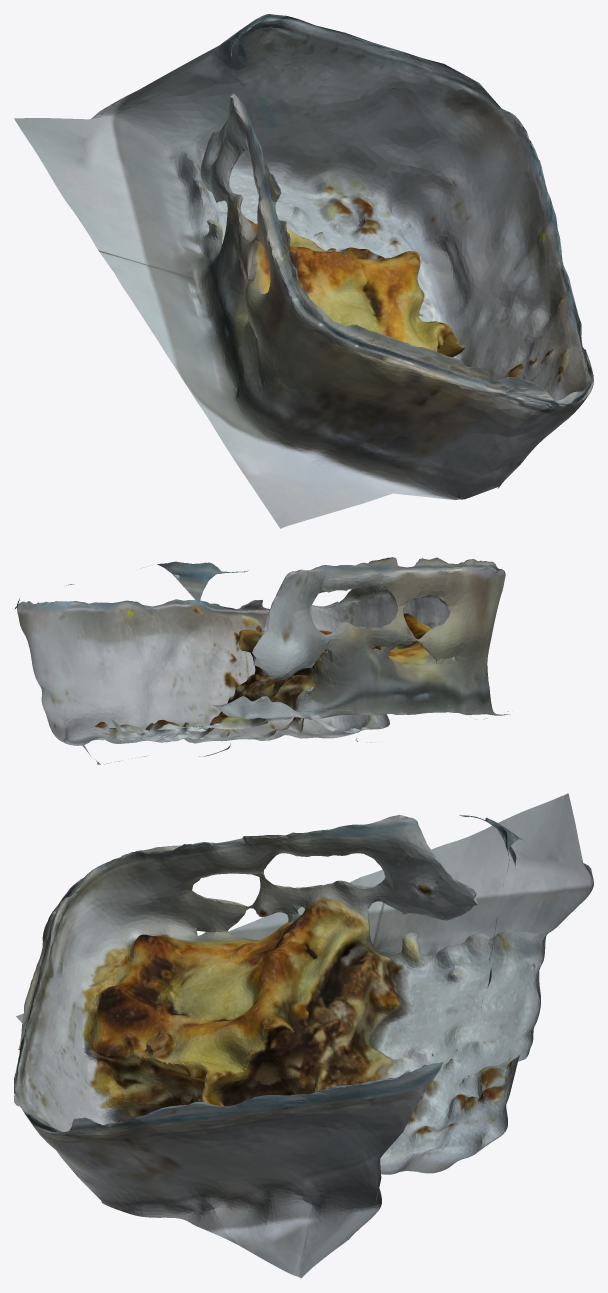
Rendered from lasagne.glb.
The picture shows the model from 3 angles, top to bottom: view 1: azimuth 30°, elevation 25°; view 2: azimuth 150°, elevation 25°; view 3: azimuth 270°, elevation 25°; orthographic projection. The views are drawn at different scales.
Size of the model in its own units: 1.14 by 0.8525 by 1.27.
Materials: 1 (1 with a texture image).
